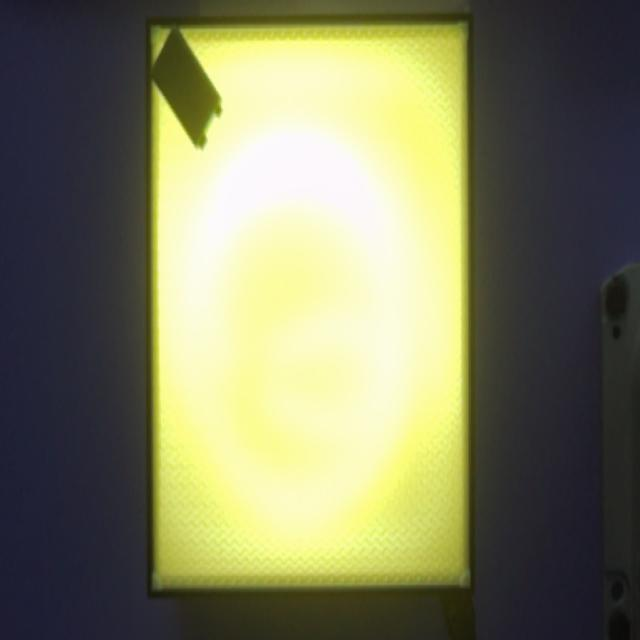bateria: (151, 24, 223, 150)
mesa: (146, 14, 476, 598)
